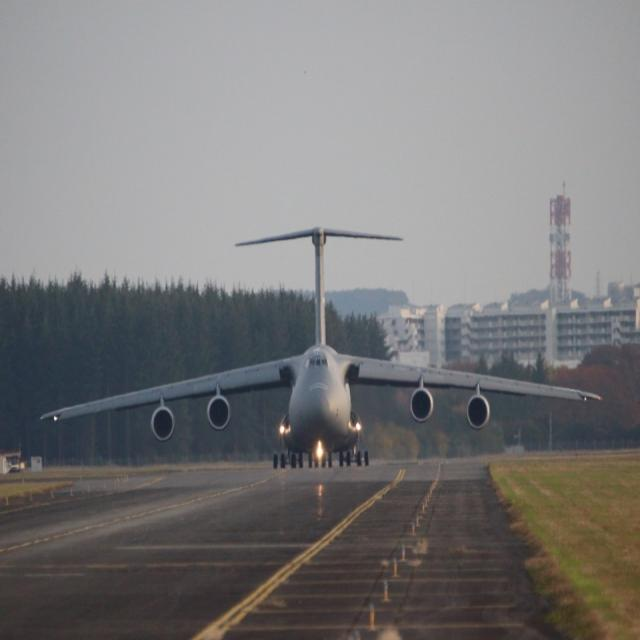MIL_Plane: (286, 248, 357, 447)
